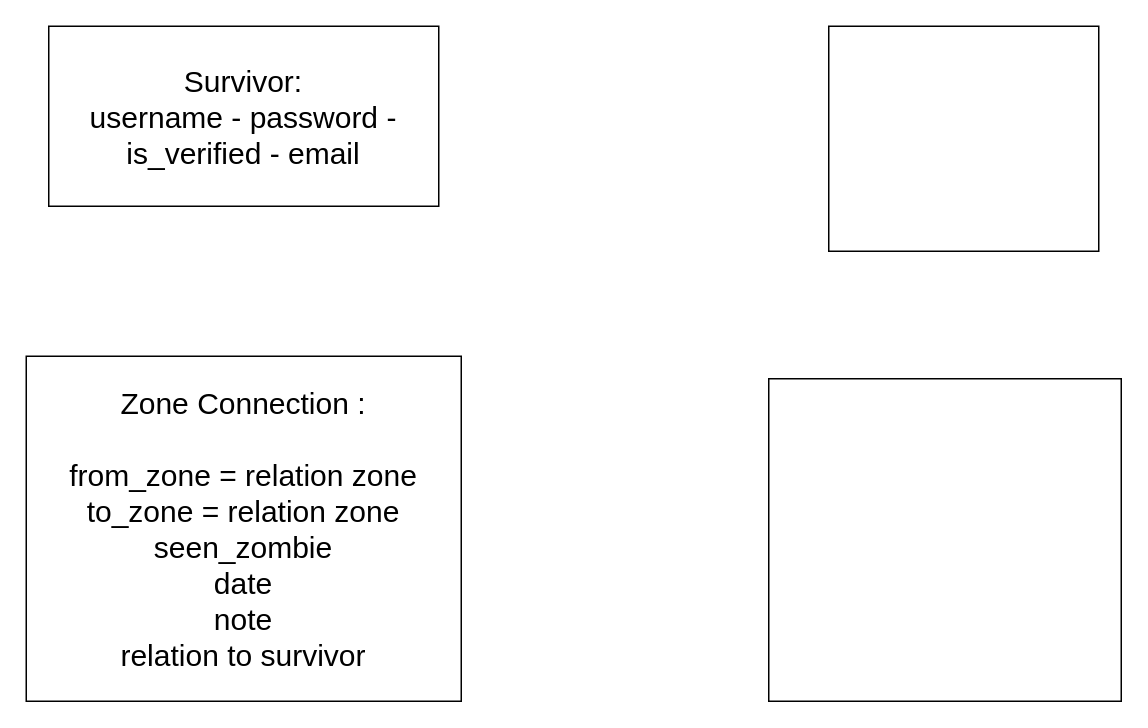
This 1148x728 diagram has some shape labels left out. Each missing label, with the box of its shape:
Log : relation to Survivors relation to Zone Note zombie_amount date: (767, 377, 1121, 701)
Zone : name - is_safe: (827, 25, 1099, 251)
